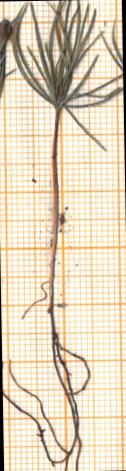flower: (12, 0, 121, 149)
root: (3, 307, 89, 470)
stem: (49, 112, 58, 308)
